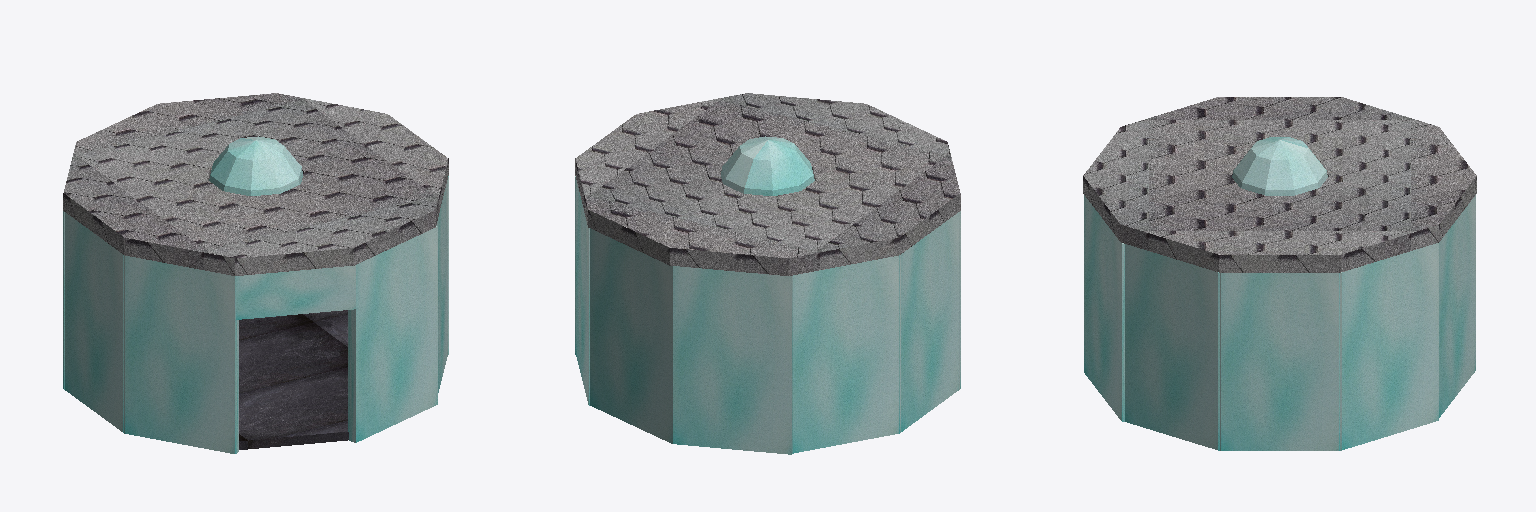
3 views of the same model, side by side, from view 1: azimuth 30°, elevation 25°; view 2: azimuth 150°, elevation 25°; view 3: azimuth 270°, elevation 25° (orthographic).
Parts seen in each view (by area): view 1: Tube002, Box007, Box009, Cylinder001, Box006, Box012, Sphere002, Box004; view 2: Tube002, Box010, Box005, Box011, Box006, Sphere002, Box008; view 3: Tube002, Box003, Box008, Box004, Box009, Box011, Sphere002.
Part boxes in pixels (bbox=[...]): Tube002: bbox=[63, 93, 448, 275]; Box007: bbox=[123, 255, 238, 453]; Box009: bbox=[348, 226, 437, 442]; Cylinder001: bbox=[239, 310, 348, 449]; Box006: bbox=[63, 211, 124, 433]; Box012: bbox=[236, 265, 355, 319]; Sphere002: bbox=[209, 136, 302, 195]; Box004: bbox=[436, 180, 447, 392]; Tube002: bbox=[575, 93, 960, 275]; Box010: bbox=[673, 266, 792, 454]; Box005: bbox=[793, 255, 900, 453]; Box011: bbox=[590, 228, 672, 443]; Box006: bbox=[899, 211, 960, 433]; Sphere002: bbox=[721, 136, 814, 195]; Box008: bbox=[576, 180, 589, 405]; Tube002: bbox=[1083, 97, 1476, 272]; Box003: bbox=[1218, 272, 1341, 450]; Box008: bbox=[1339, 243, 1438, 450]; Box004: bbox=[1125, 244, 1220, 450]; Box009: bbox=[1084, 195, 1124, 421]; Box011: bbox=[1439, 195, 1475, 417]; Sphere002: bbox=[1232, 137, 1327, 195].
Bounding box in the file's own units: 38.16 × 26 × 40.
Materials: 4 (3 with a texture image).